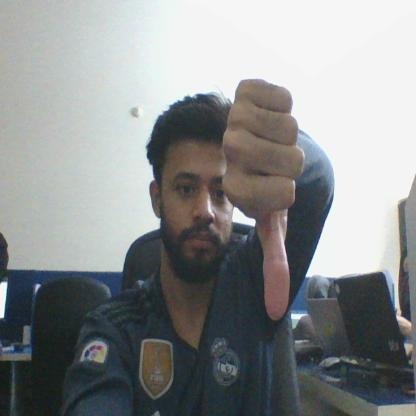thumbs-down: (223, 76, 305, 321)
